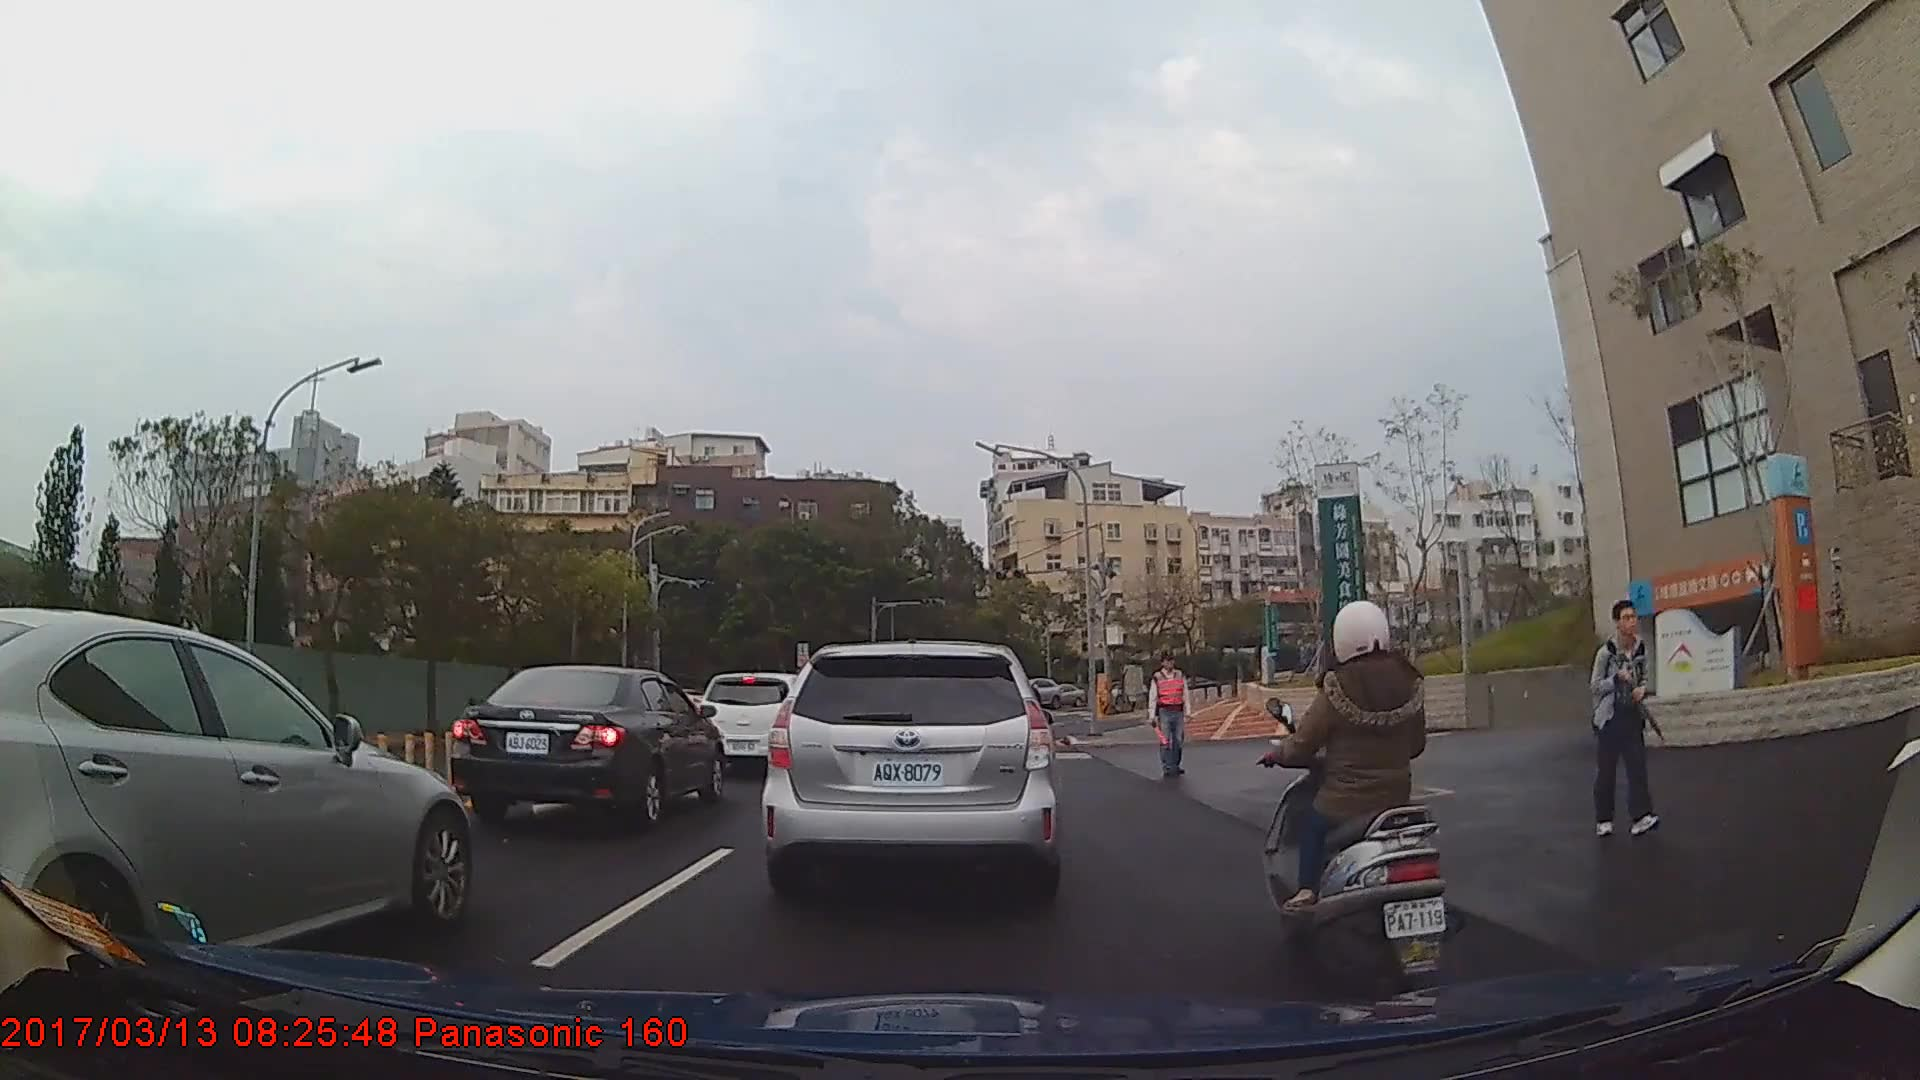pedestrian: (1586, 605, 1654, 844), (1144, 644, 1203, 787)
rider: (1251, 601, 1460, 992)
vehicle: (0, 606, 474, 972), (763, 640, 1062, 902), (449, 663, 726, 832), (703, 673, 819, 771), (1046, 682, 1086, 711)
